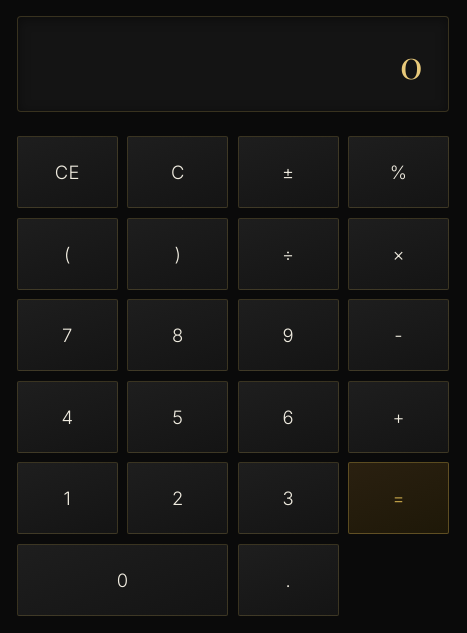
Test: CalculatorPage › evaluates expression when subscribed
Click the button "3" at (288, 498), box [238,462,339,534]
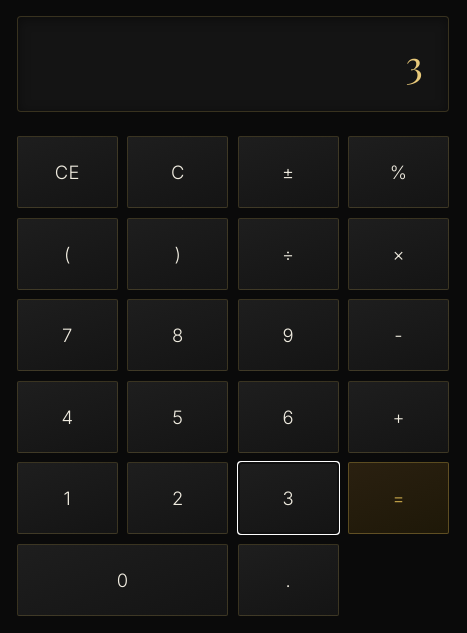
Click the button "+" at (399, 417), box [348,381,449,453]
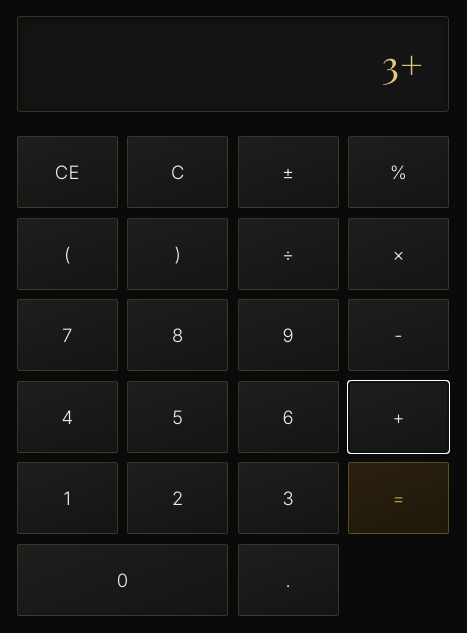
Click the button "4" at (67, 417), box [17,381,118,453]
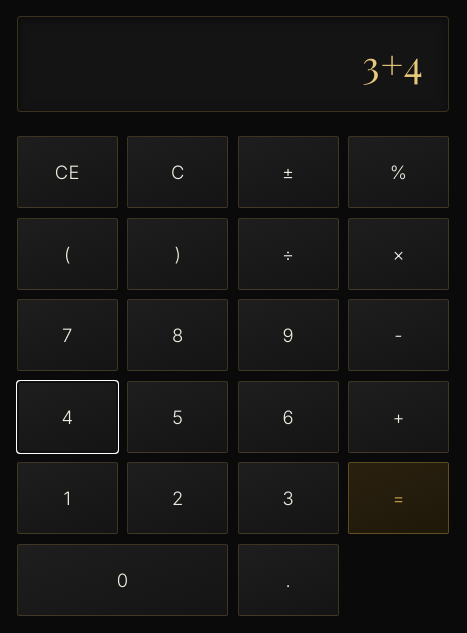
Click the button "=" at (399, 498), box [348,462,449,534]
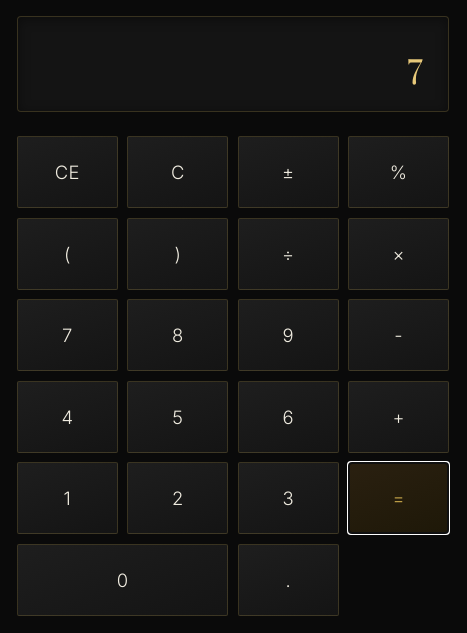
Now the text with test id "calc-display" reads "7", box [407,37,424,89]
